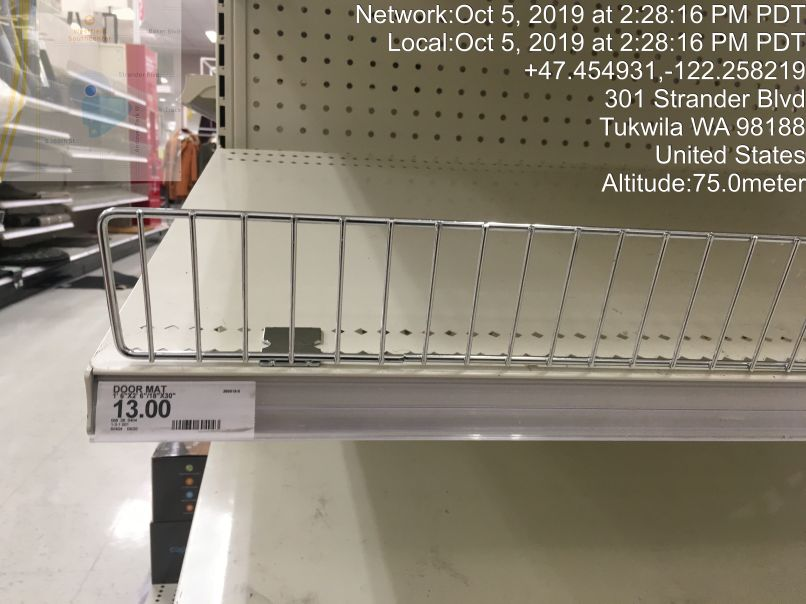Label: (90, 374, 263, 445)
Location: (591, 80, 806, 169)
Time: (348, 3, 806, 56)
Void: (213, 11, 792, 336)
